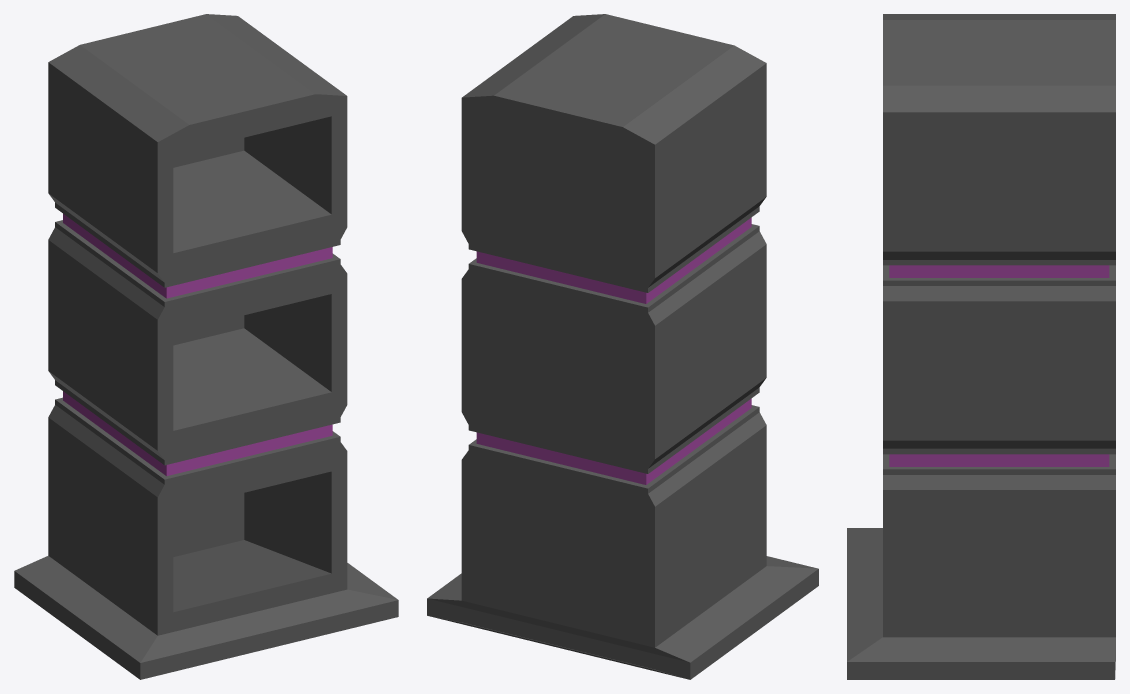
The model's file is Casier 1.fbx.
3 renders of one model, left to right at view 1: azimuth 30°, elevation 25°; view 2: azimuth 150°, elevation 25°; view 3: azimuth 270°, elevation 25°, orthographic. The views are drawn at different scales.
Parts seen in each view (by area): view 1: Casier; view 2: Casier; view 3: Casier.
Boxes of the visible parts, x1,y1,x2,y2 form: Casier: (14, 14, 398, 679); Casier: (427, 14, 818, 679); Casier: (847, 14, 1115, 679).
Bounding box in the file's own units: 4.94 × 9.63 × 4.19.
